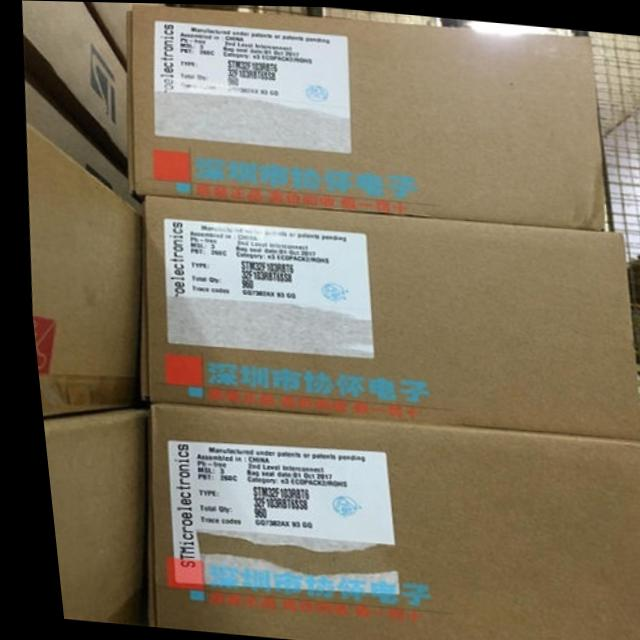box: (131, 194, 634, 437), (134, 403, 640, 640), (126, 2, 600, 228), (23, 124, 137, 415), (34, 405, 141, 622), (22, 0, 126, 179), (85, 1, 165, 70)
